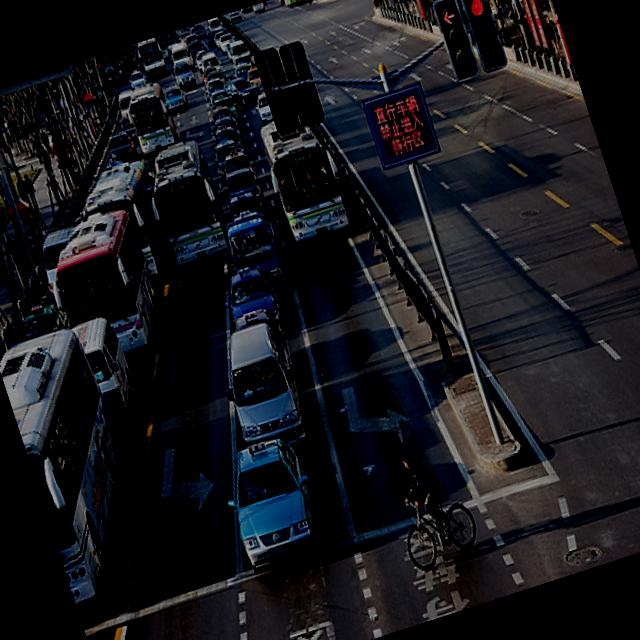Vehicle: (0, 1, 330, 298), (0, 321, 165, 607), (44, 205, 176, 378), (208, 316, 321, 474), (212, 430, 332, 574), (68, 151, 180, 292), (132, 130, 238, 270), (255, 107, 352, 246), (70, 313, 147, 431), (220, 208, 292, 304), (220, 259, 289, 341), (120, 79, 182, 157), (212, 136, 250, 184), (134, 36, 168, 79), (219, 164, 260, 195), (207, 104, 240, 135), (222, 149, 252, 174), (212, 95, 238, 123), (252, 92, 274, 125), (198, 52, 221, 74), (206, 77, 226, 92)
